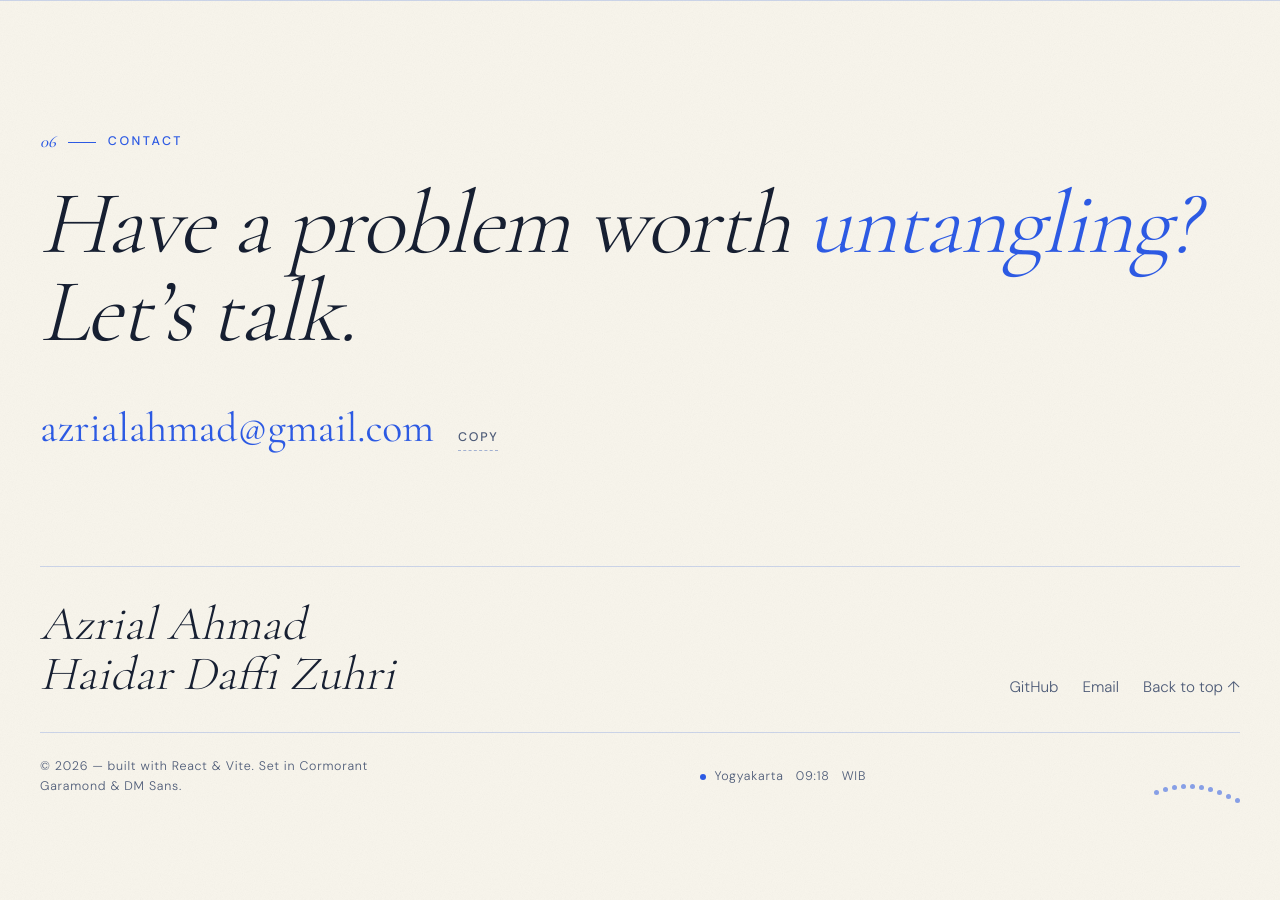
Scenario: Footer › copies the email address
Click the button "Copy" at (478, 440), box [458,428,498,451]
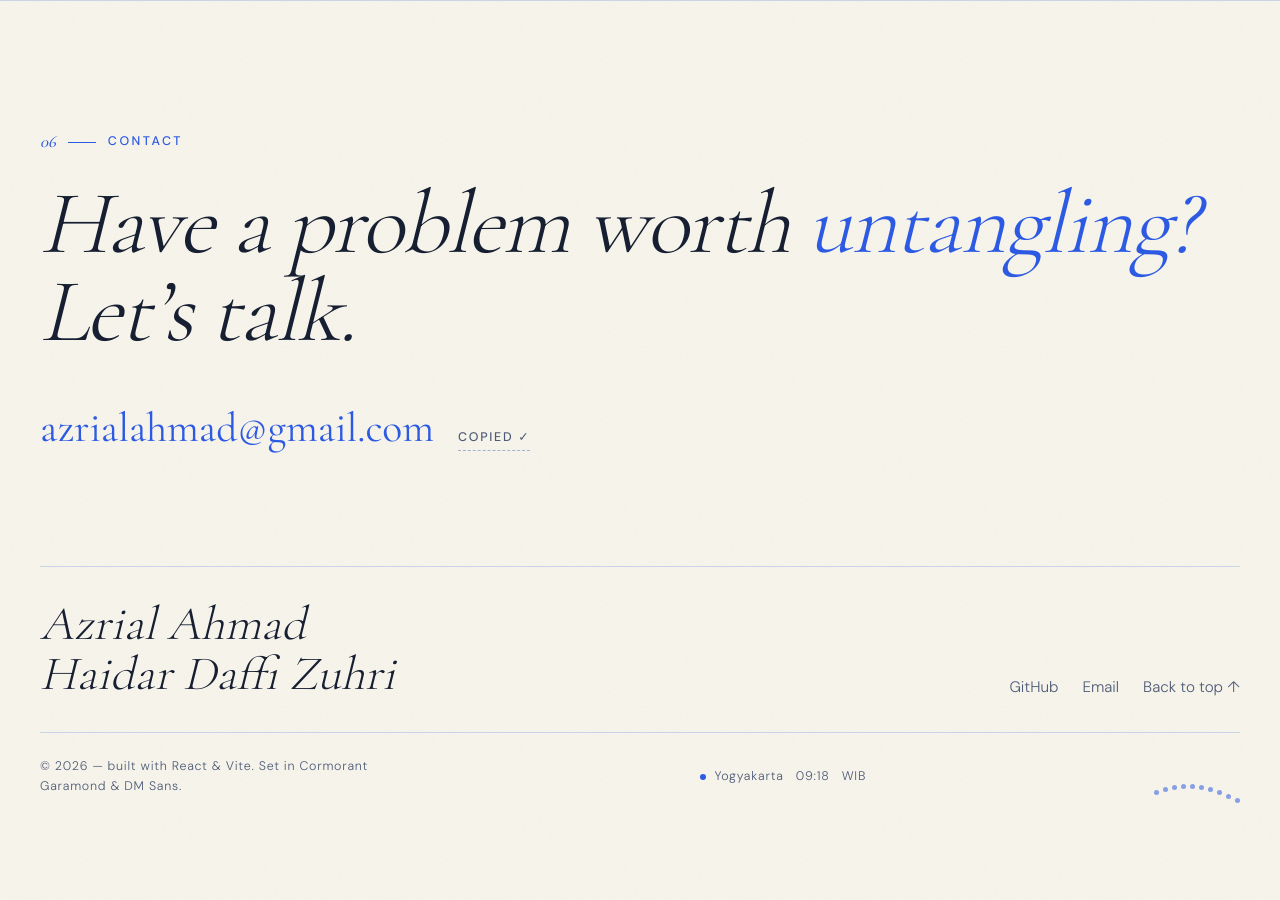
Check: the button "Copied ✓" is shown, box [458,428,530,451]
